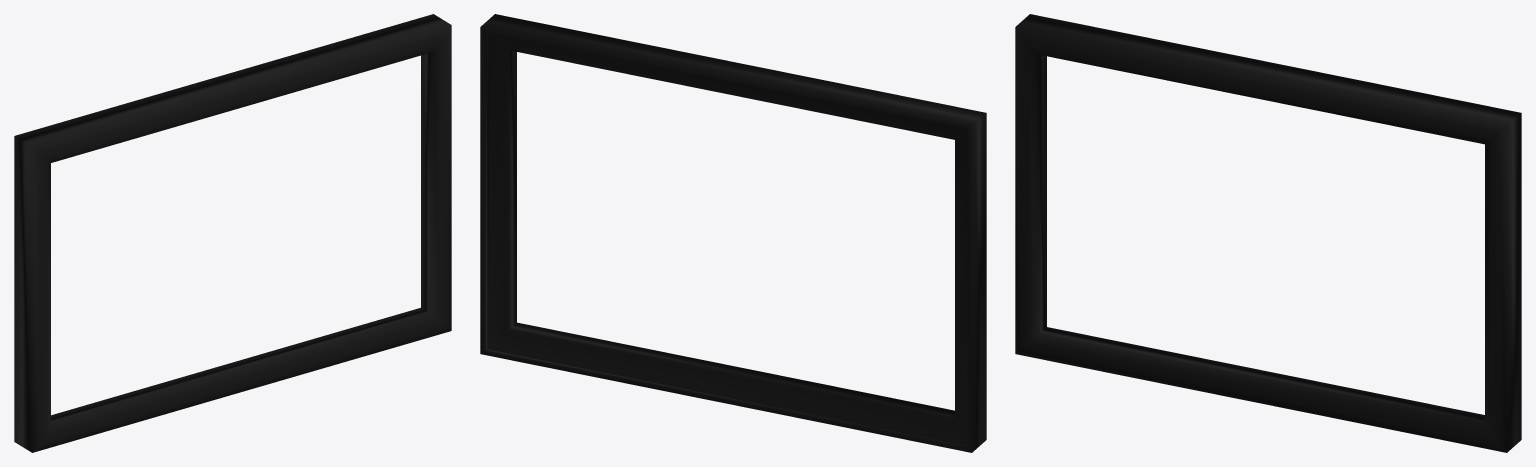
The model's file is Bingkai 1.fbx.
3 views of the same model, side by side, from view 1: azimuth 30°, elevation 25°; view 2: azimuth 150°, elevation 25°; view 3: azimuth 330°, elevation 25° (orthographic). The views are drawn at different scales.
Visible parts, largest first — view 1: Cube; view 2: Cube; view 3: Cube.
Boxes of the visible parts, x1=… form: Cube: x1=14, y1=14, x2=451, y2=452; Cube: x1=480, y1=14, x2=986, y2=452; Cube: x1=1015, y1=14, x2=1521, y2=452.
Size of the model in its own units: 200 by 133 by 29.14.
Materials: 1 (1 with a texture image).
